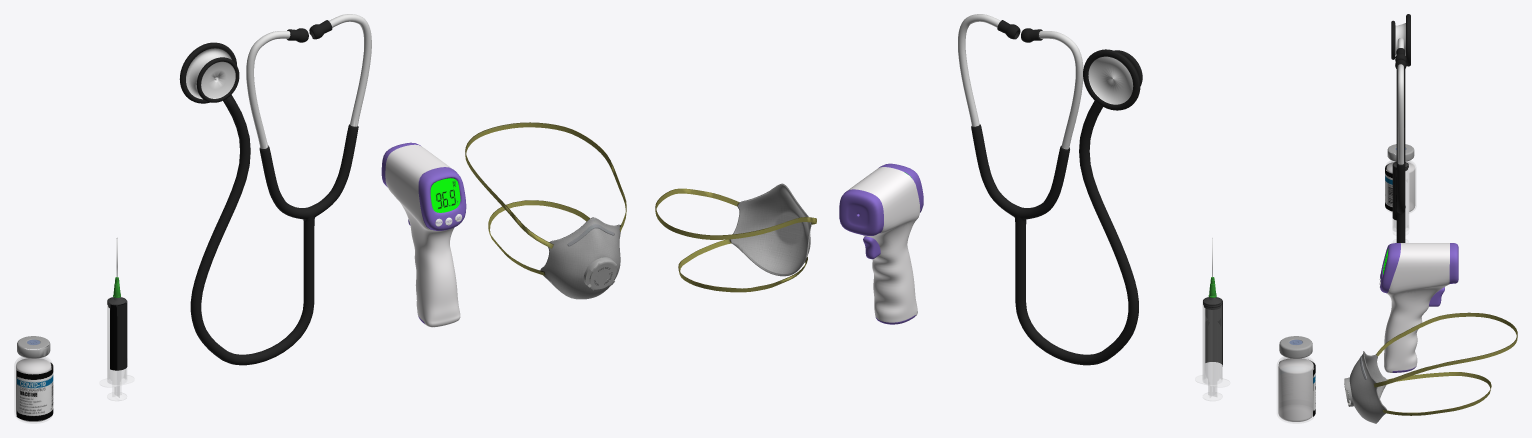
The model's file is Symptom-transformed.glb.
3 renders of one model, left to right at view 1: azimuth 30°, elevation 25°; view 2: azimuth 150°, elevation 25°; view 3: azimuth 270°, elevation 25°, orthographic. The views are drawn at different scales.
Visible parts, largest first — view 1: Thermometer, FaceMask, Syringe, Cylinder; view 2: Thermometer, FaceMask, Syringe, Cylinder; view 3: Thermometer, FaceMask, Syringe, Cylinder.
Boxes of the visible parts, left/top/right/bottom form: Thermometer: left=17, top=14, right=466, bottom=365; FaceMask: left=465, top=122, right=626, bottom=299; Syringe: left=16, top=297, right=134, bottom=421; Cylinder: left=14, top=349, right=53, bottom=423; Thermometer: left=839, top=14, right=1312, bottom=365; FaceMask: left=655, top=183, right=816, bottom=292; Syringe: left=1195, top=297, right=1313, bottom=421; Cylinder: left=1277, top=356, right=1315, bottom=423; Thermometer: left=1379, top=14, right=1458, bottom=372; FaceMask: left=1344, top=312, right=1517, bottom=423; Syringe: left=1386, top=161, right=1415, bottom=242; Cylinder: left=1385, top=160, right=1415, bottom=212.
Size of the model in its own units: 0.0937 by 0.0477 by 0.0284.
Materials: 8 (7 with a texture image).
